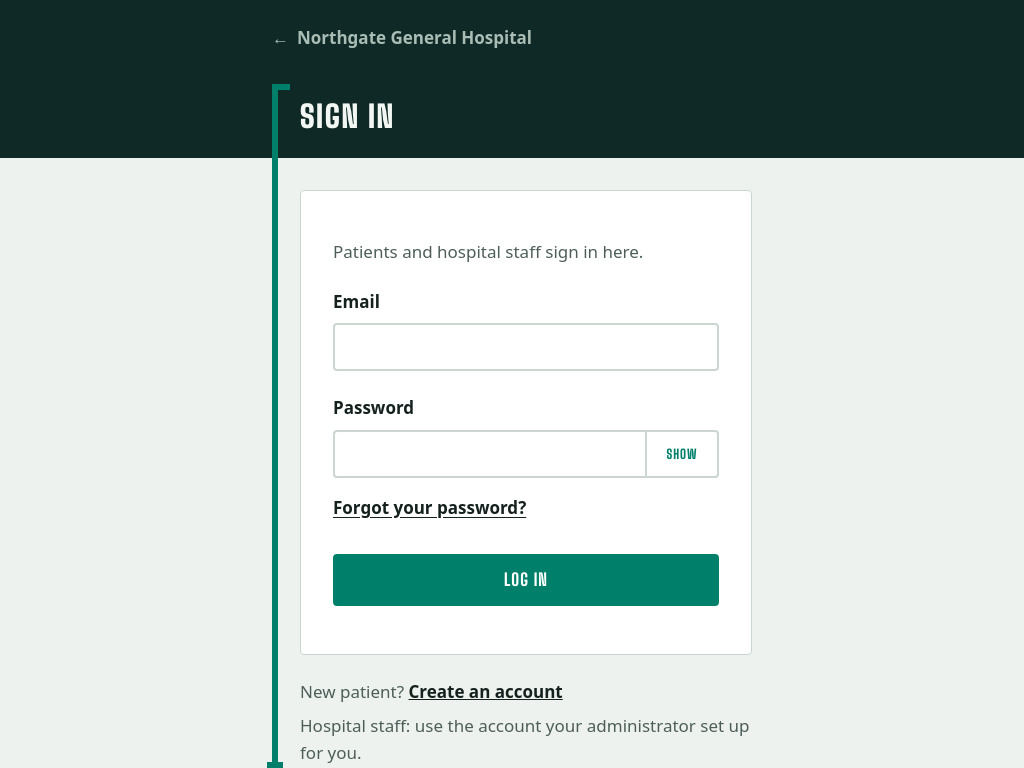
Test: LoginPage › explains when the server is unreachable
This screenshot has width=1024, height=768.
Type "sara@example.com" into the field labelled "Email" at {"x": 526, "y": 348}, box [333,324,719,372]
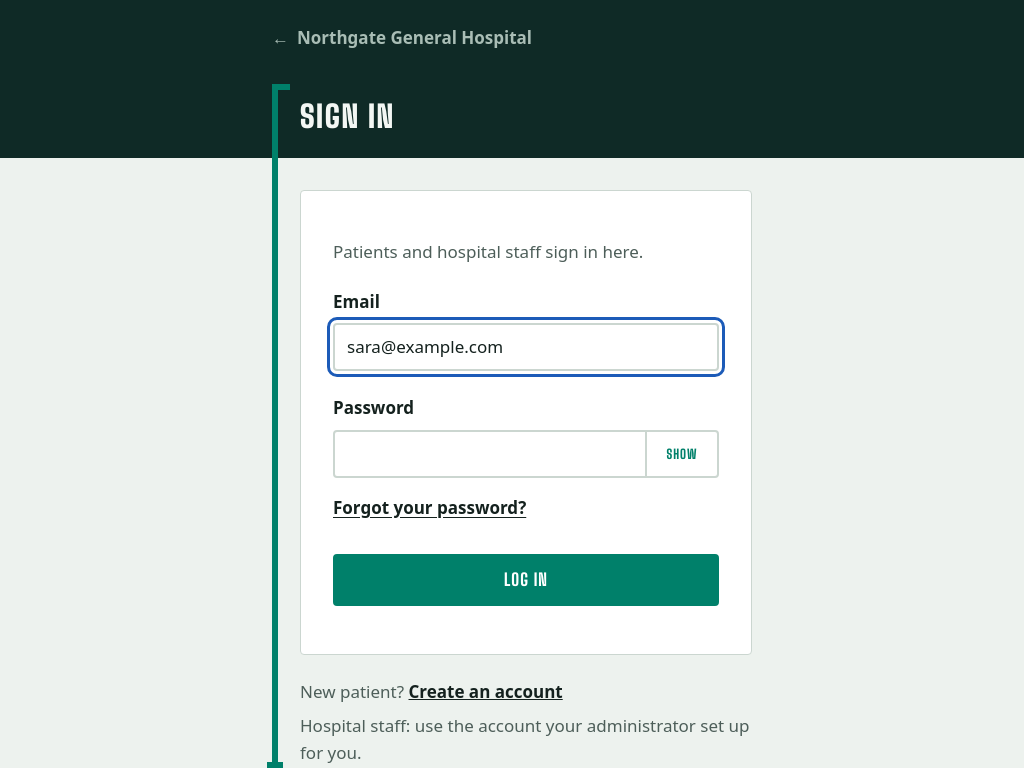
Type "anything-1" into the password field labelled "Password" at {"x": 526, "y": 454}, box [333,430,719,478]
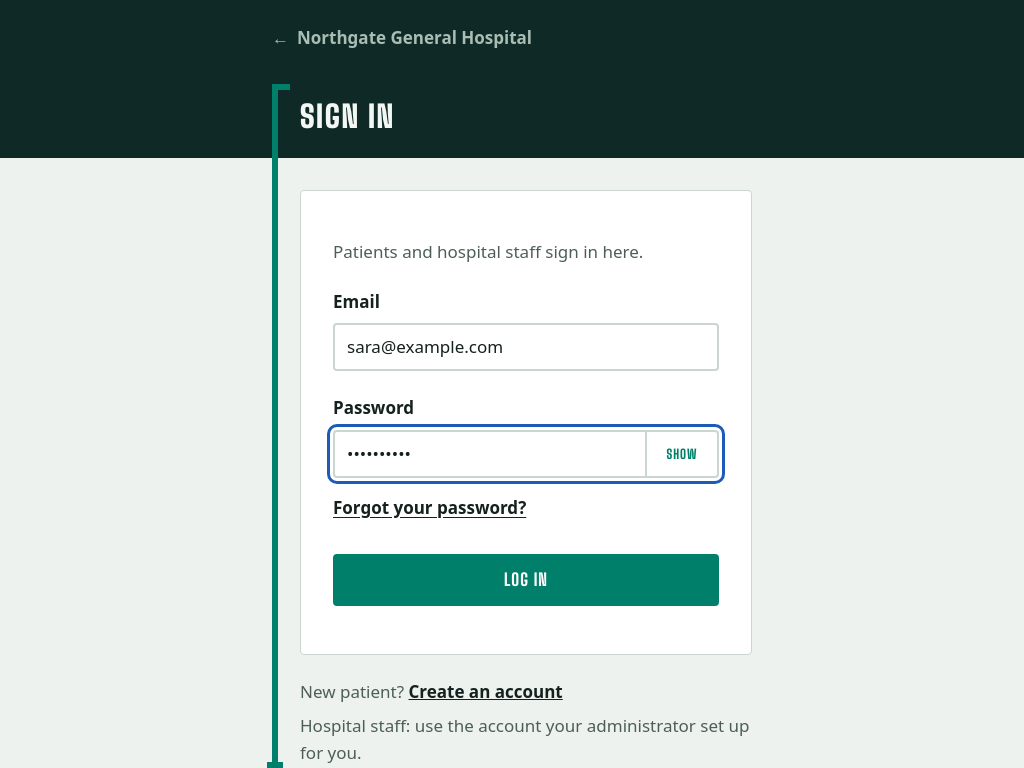
Click the button "Log in" at {"x": 526, "y": 580}, box [333,554,719,606]
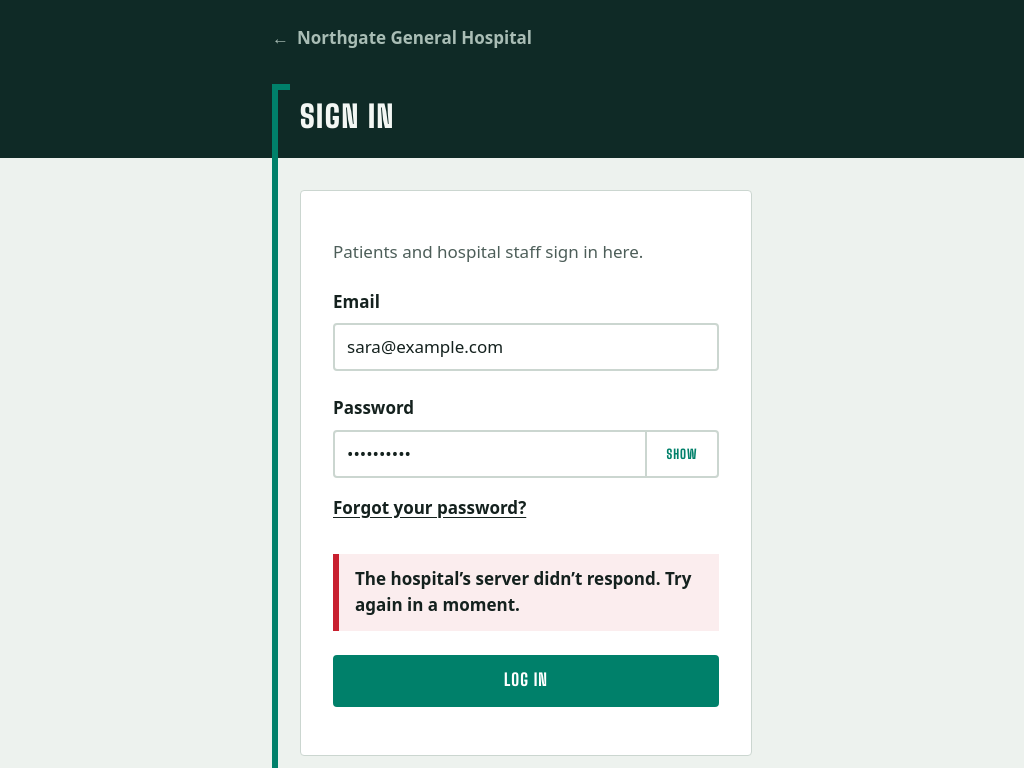
Expected: the message shows "The hospital’s server didn’t respond", [355,567,692,616]
